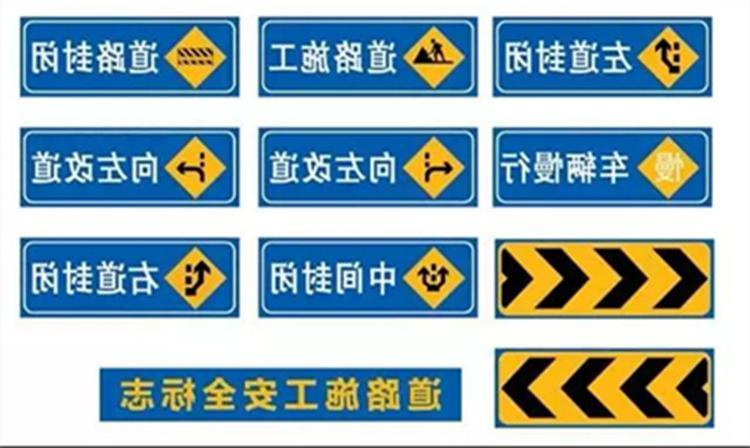sign: (495, 350, 714, 426), (22, 240, 237, 317), (497, 240, 712, 317), (261, 239, 475, 315), (495, 129, 709, 205), (261, 19, 474, 95), (22, 129, 237, 203), (262, 130, 477, 204), (22, 19, 236, 93), (496, 21, 710, 93)
